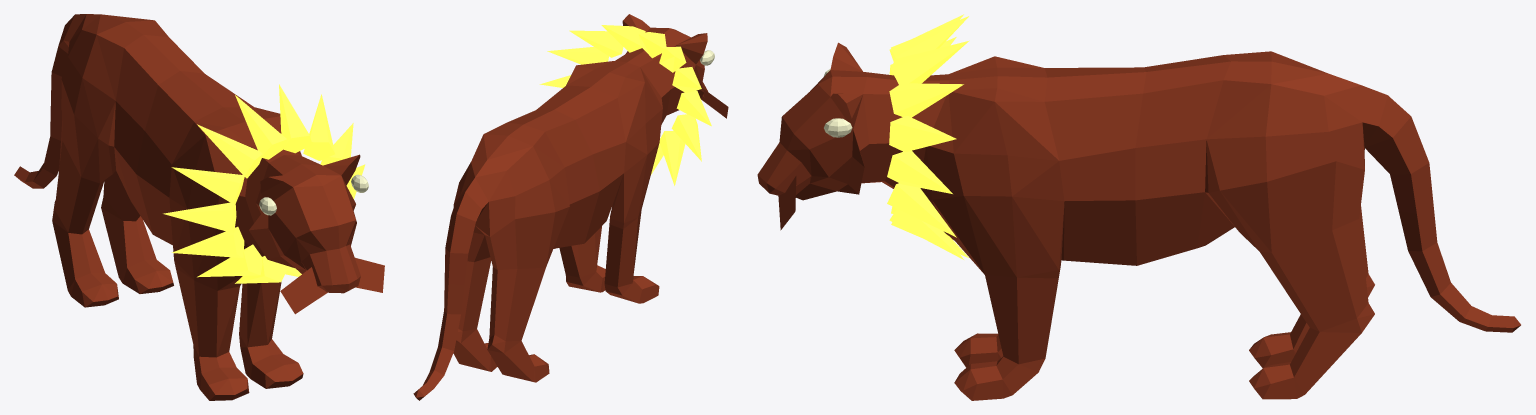
The model's file is Solfang.fbx.
3 renders of one model, left to right at view 1: azimuth 30°, elevation 25°; view 2: azimuth 150°, elevation 25°; view 3: azimuth 270°, elevation 25°, orthographic. The views are drawn at different scales.
Visible parts, largest first — view 1: Body, Head, Glow_ff7814, LegBL, LegFL, LegBR, LegFR, Jaw, Glow_ffffd2; view 2: Body, LegBL, Glow_ff7814, Head, LegFL, LegBR, LegFR; view 3: Body, LegBR, Head, Glow_ff7814, LegFR, LegBL, Jaw, LegFL.
Part boxes in pixels (bbox=[...]): Body: bbox=[50, 14, 301, 356]; Head: bbox=[245, 145, 384, 314]; Glow_ff7814: bbox=[163, 84, 365, 283]; LegBL: bbox=[14, 127, 118, 307]; LegFL: bbox=[175, 268, 249, 400]; LegBR: bbox=[101, 171, 173, 293]; LegFR: bbox=[239, 282, 303, 388]; Jaw: bbox=[249, 186, 355, 273]; Glow_ffffd2: bbox=[259, 174, 368, 215]; Body: bbox=[444, 61, 662, 314]; LegBL: bbox=[413, 267, 549, 400]; Glow_ff7814: bbox=[539, 25, 711, 185]; Head: bbox=[615, 14, 728, 124]; LegFL: bbox=[604, 210, 659, 303]; LegBR: bbox=[453, 257, 497, 371]; LegFR: bbox=[559, 233, 605, 292]; Body: bbox=[920, 51, 1437, 278]; LegBR: bbox=[1220, 191, 1374, 399]; Head: bbox=[757, 42, 949, 230]; Glow_ff7814: bbox=[887, 14, 969, 259]; LegFR: bbox=[954, 260, 1061, 400]; LegBL: bbox=[1249, 206, 1520, 367]; Jaw: bbox=[796, 130, 883, 200]; LegFL: bbox=[954, 333, 1003, 367].
Bounding box in the file's own units: 6.01 × 8.51 × 17.
Materials: 3 (1 with a texture image).
